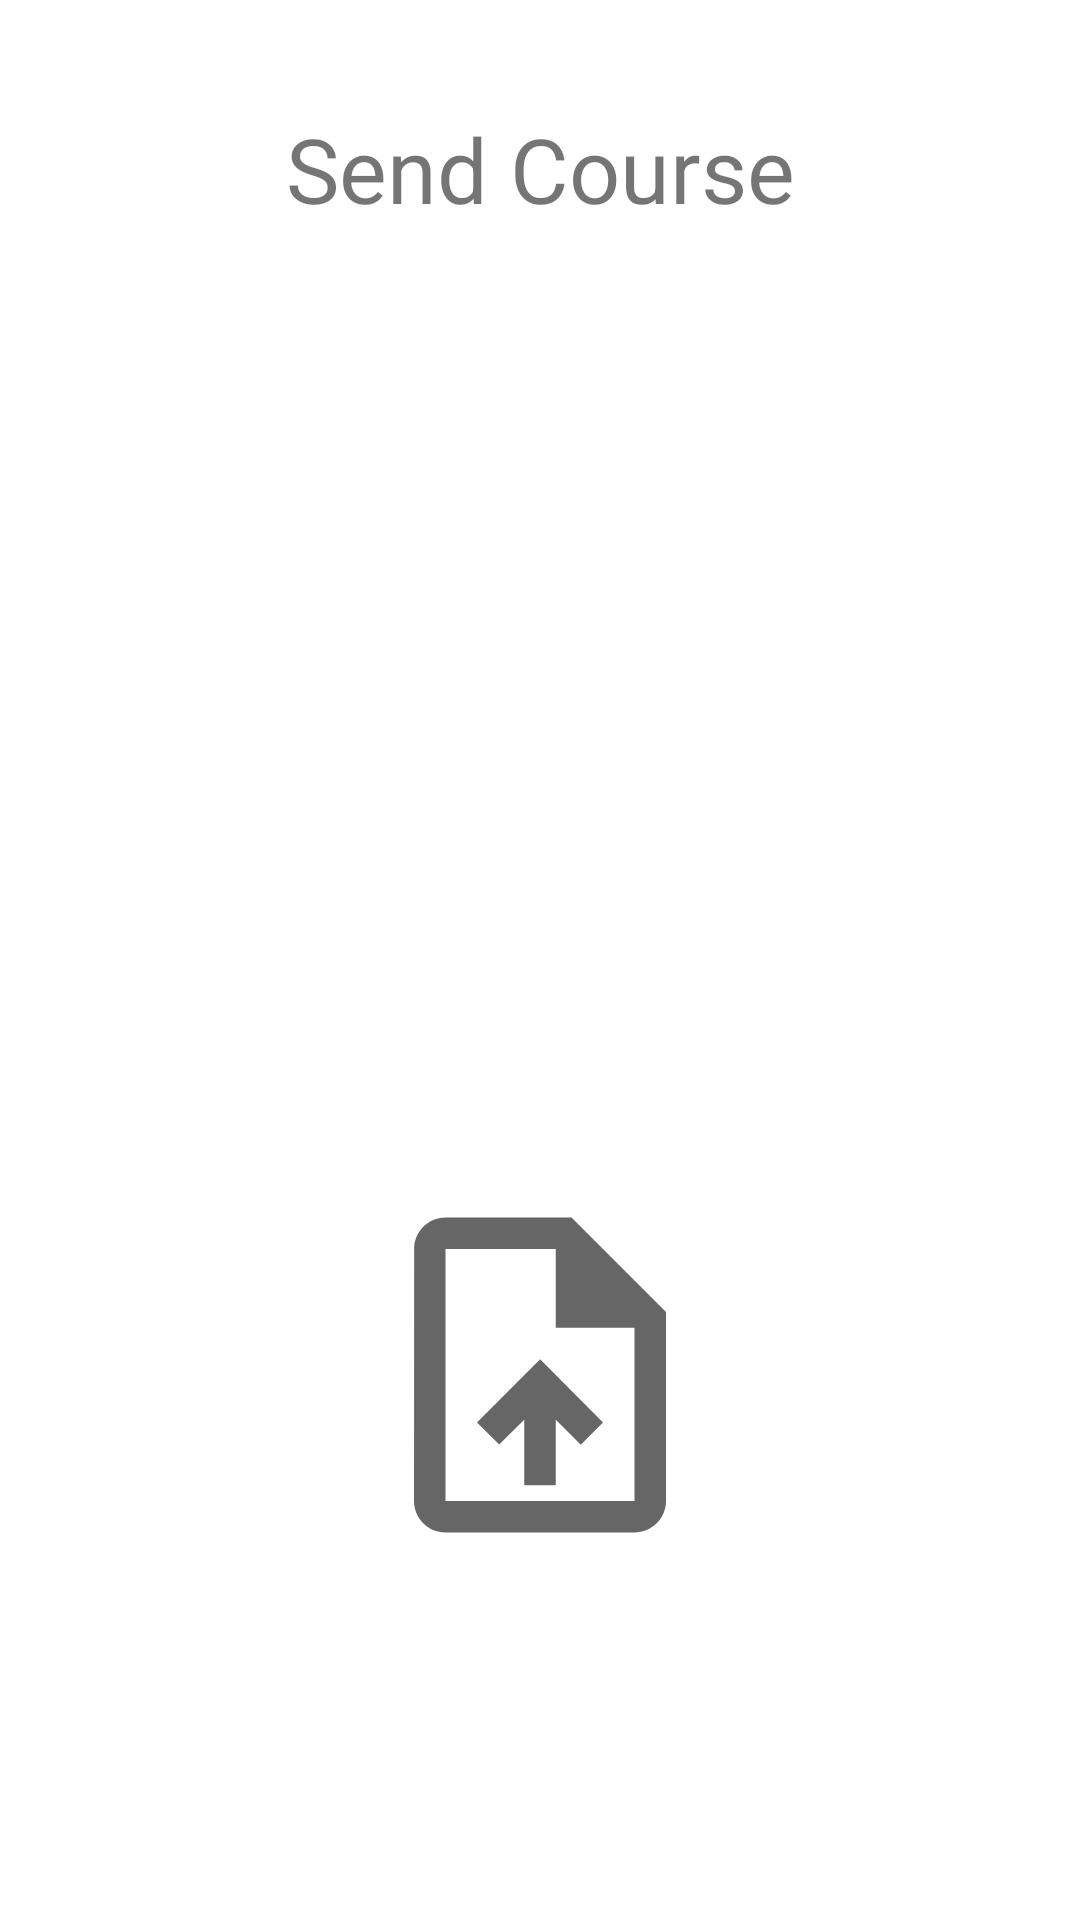

Locate icon controls on the screen. Image size 1080 x 1920, boxes as {"x1": x1, "y1": y1, "x2": x2, "y2": y2}.
upload file: {"x1": 414, "y1": 1217, "x2": 666, "y2": 1533}
